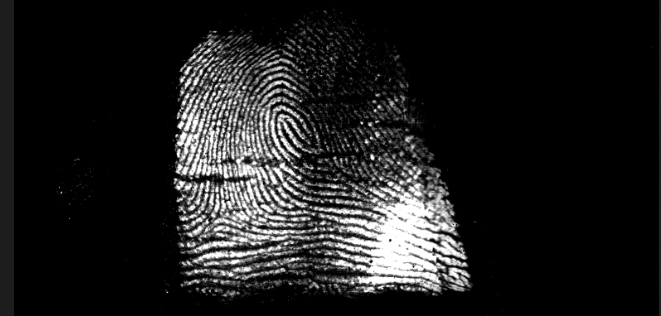deltas: (202, 193, 246, 233)
nucleo: (272, 100, 314, 155)
